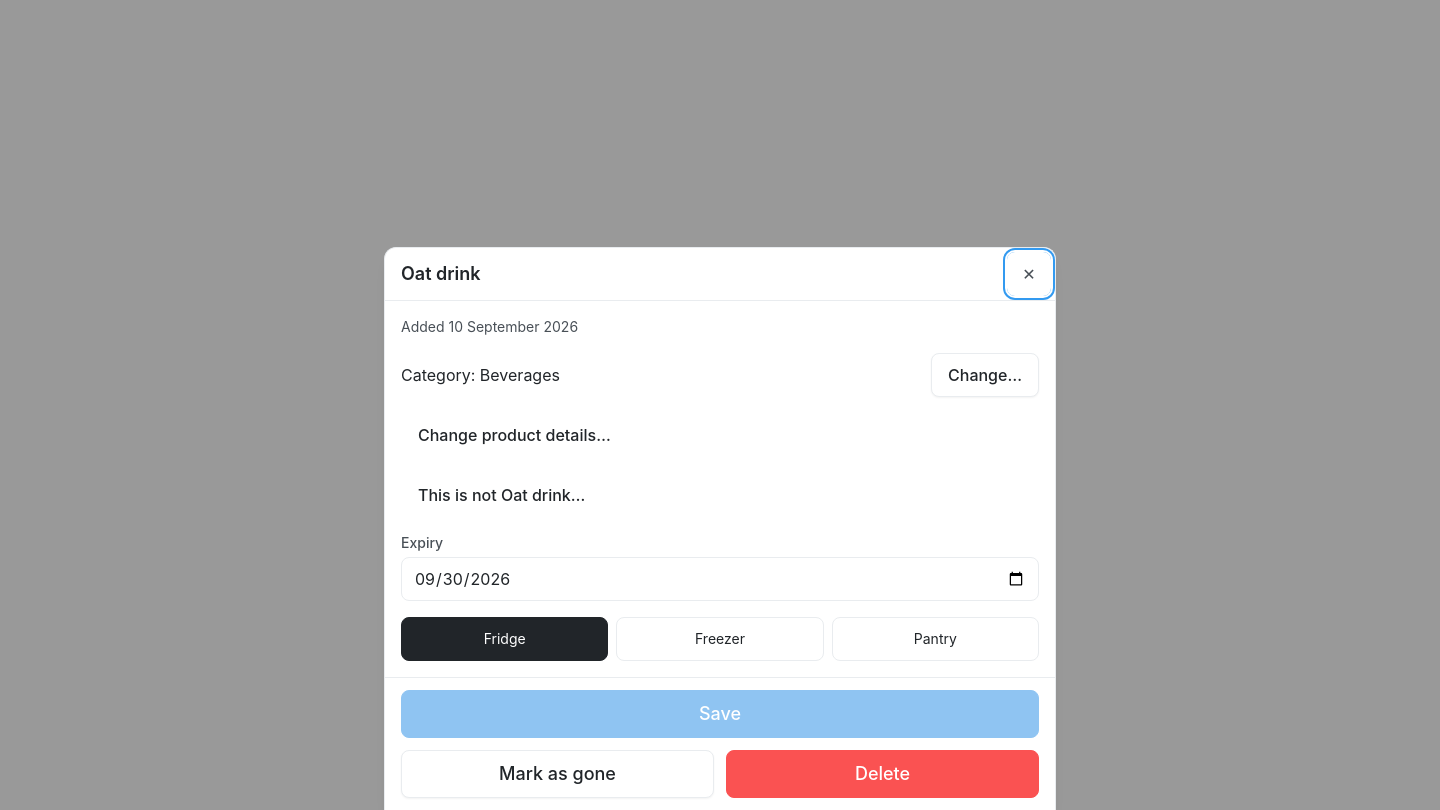
it: ItemEditSheet › saves only the changed location
The image size is (1440, 810).
Click the radio button "Freezer" at (720,639), box [616, 617, 824, 661]
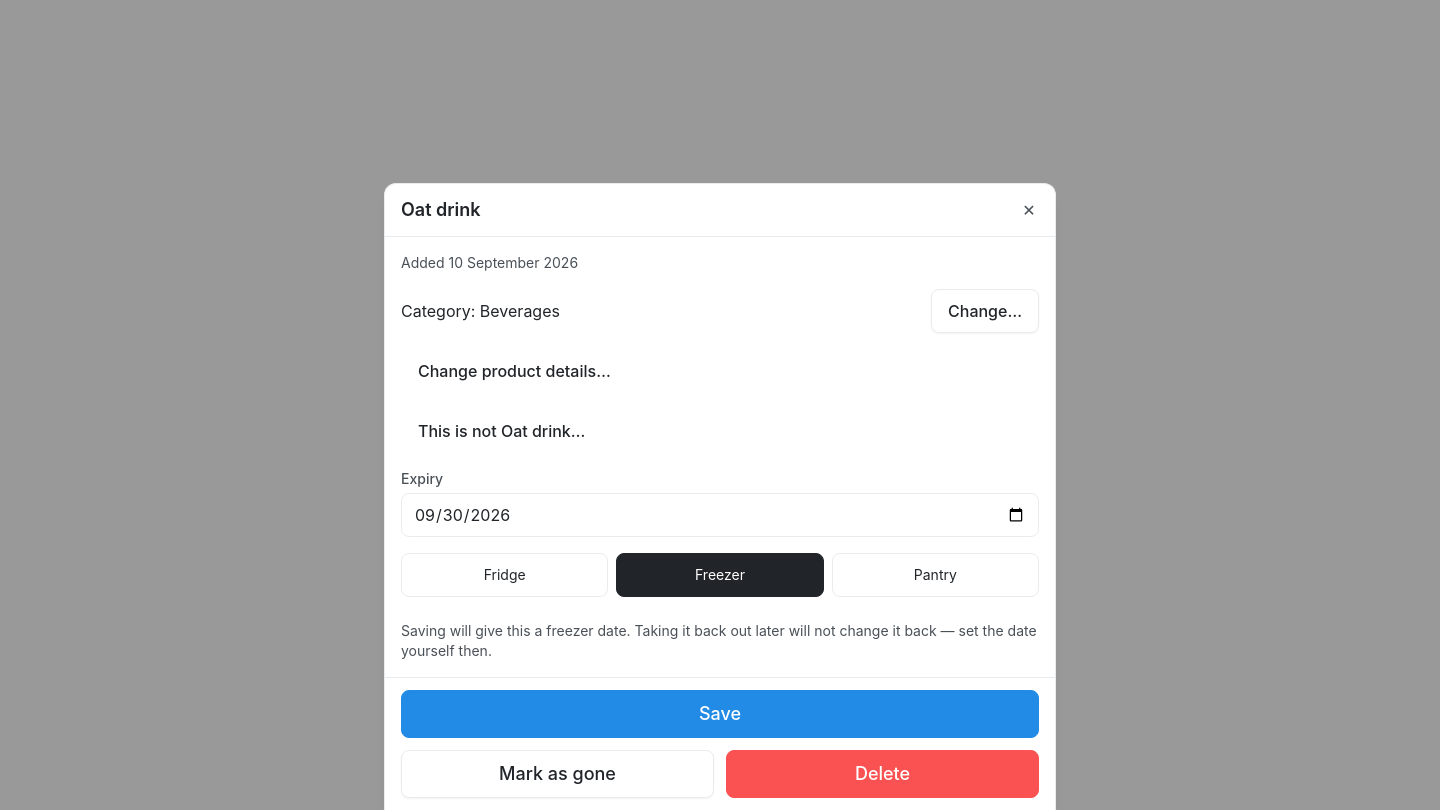
Click the button "Save" at (720,714), box [401, 690, 1039, 738]
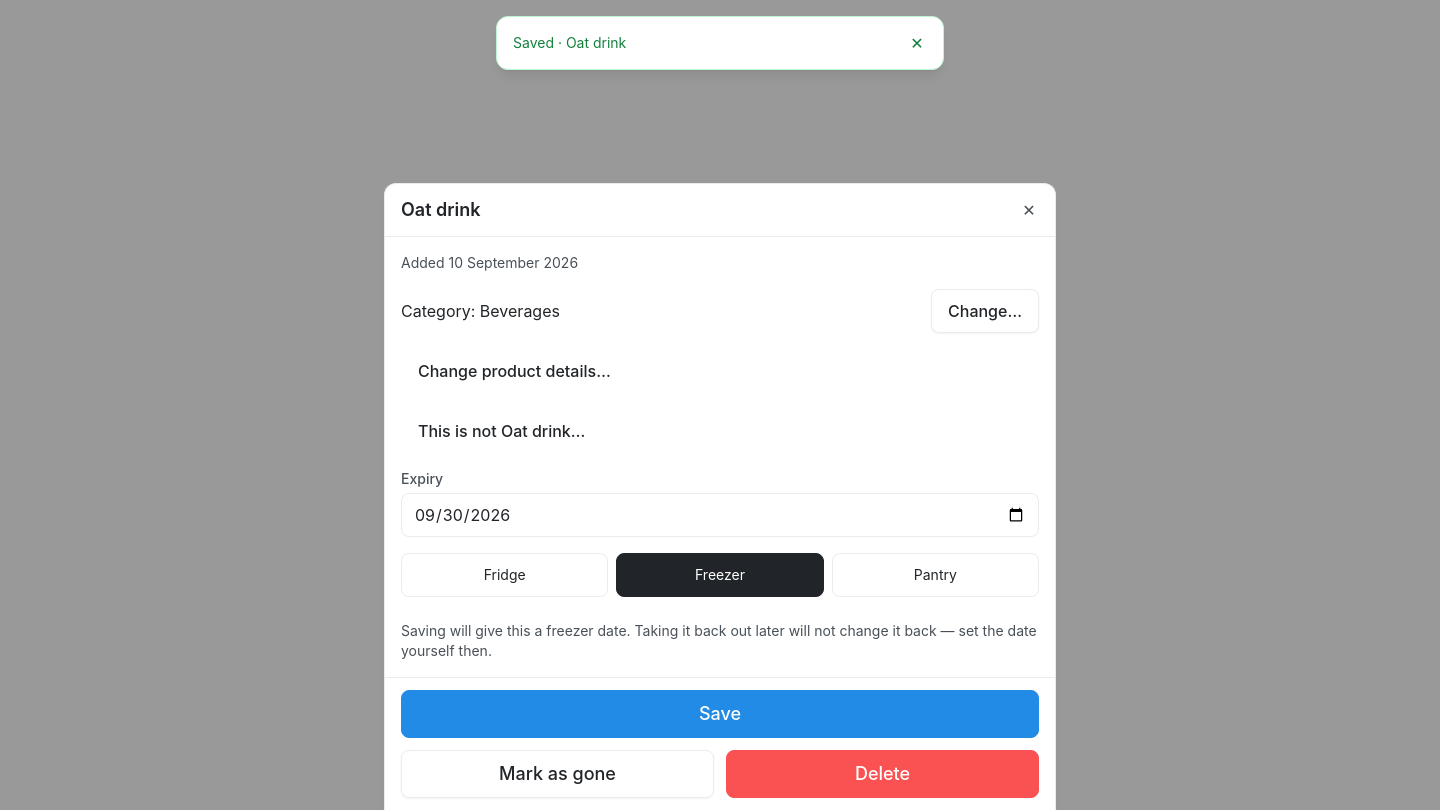
Expected: the text "Saved · Oat drink" is shown, [513, 34, 626, 51]
